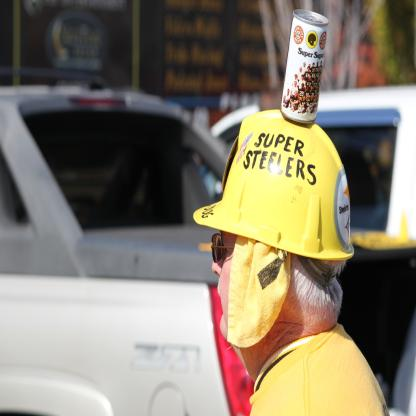Helmet: (193, 106, 355, 289)
